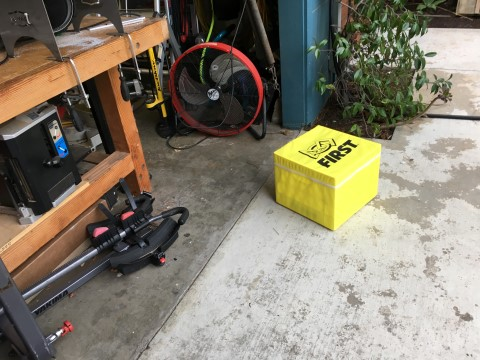cube: (273, 125, 381, 230)
